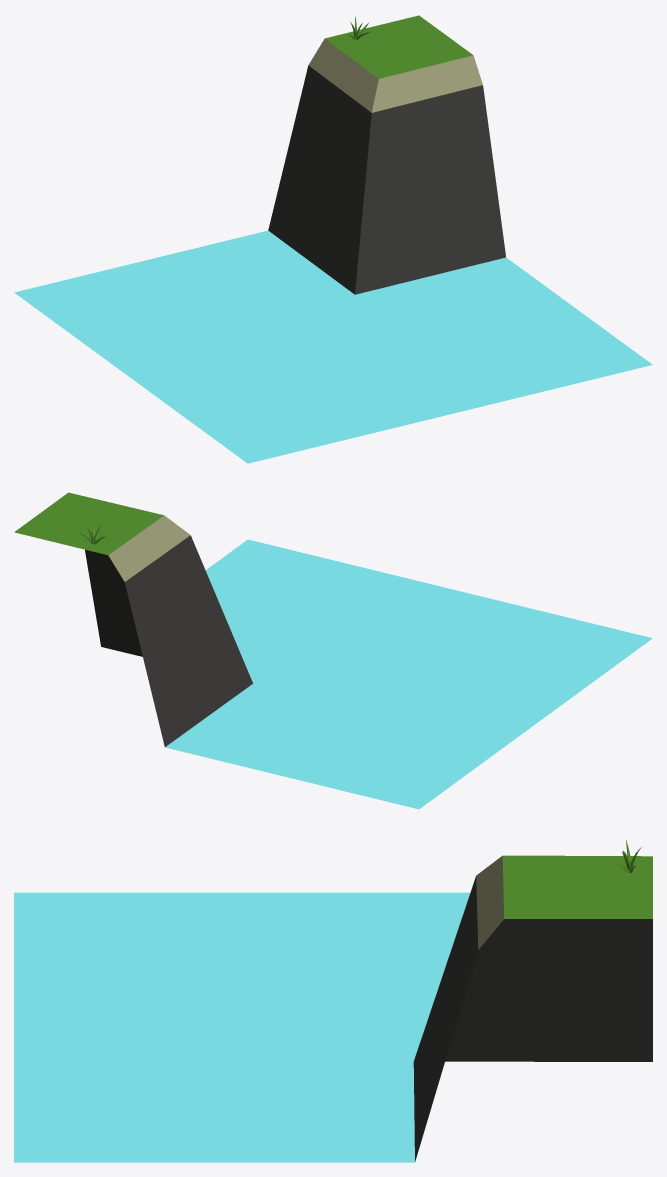
Rendered from Water_CornerInner.fbx.
The picture shows the model from 3 angles, top to bottom: view 1: azimuth 30°, elevation 25°; view 2: azimuth 150°, elevation 25°; view 3: azimuth 270°, elevation 25°; orthographic projection. The views are drawn at different scales.
Visible parts, largest first — view 1: Water_CornerInner; view 2: Water_CornerInner; view 3: Water_CornerInner.
Part boxes in pixels (x1,y1,x2,y2): Water_CornerInner: (14, 15, 652, 463); Water_CornerInner: (14, 492, 652, 809); Water_CornerInner: (14, 839, 652, 1162).
Size of the model in its own units: 499 by 234 by 499.
